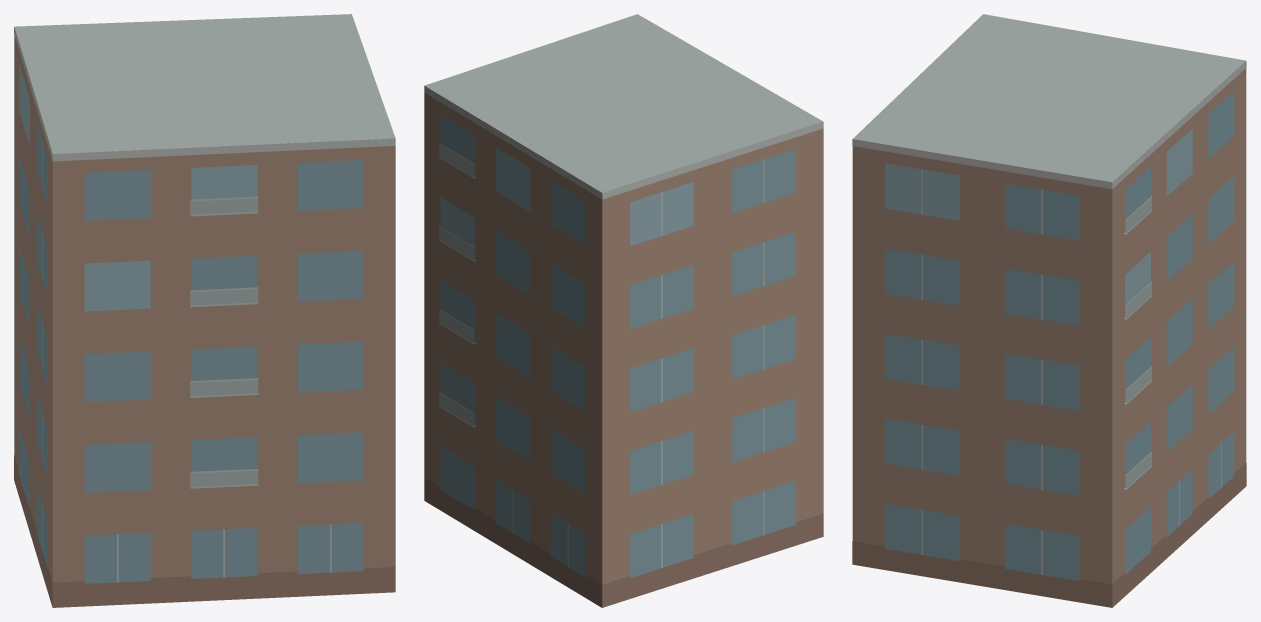
The model's file is survey-upis-32954813.glb.
The picture shows the model from 3 angles, left to right: view 1: azimuth 30°, elevation 25°; view 2: azimuth 150°, elevation 25°; view 3: azimuth 270°, elevation 25°; orthographic projection. The views are drawn at different scales.
Visible parts, largest first — view 1: survey-upis-32954813.tmp; view 2: survey-upis-32954813.tmp; view 3: survey-upis-32954813.tmp.
Boxes of the visible parts, bbox=[...] form: survey-upis-32954813.tmp: bbox=[14, 14, 395, 607]; survey-upis-32954813.tmp: bbox=[424, 14, 823, 607]; survey-upis-32954813.tmp: bbox=[852, 14, 1246, 607].
Size of the model in its own units: 12.74 by 15 by 12.6.
